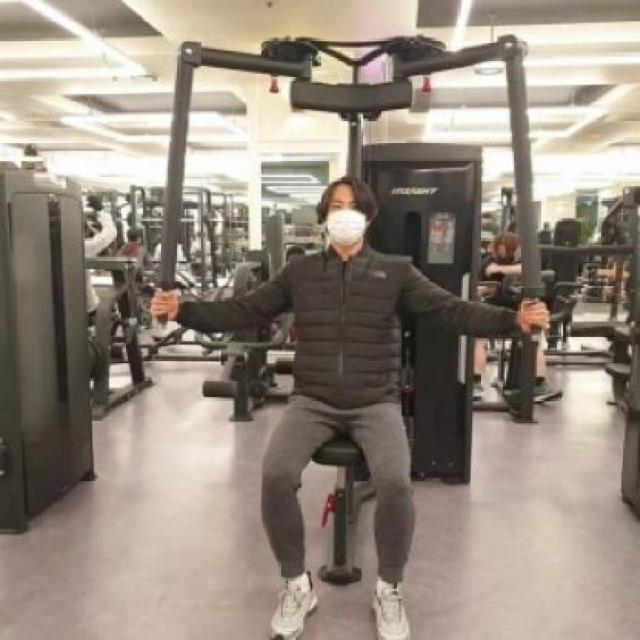chest fly machine: (54, 0, 617, 640)
